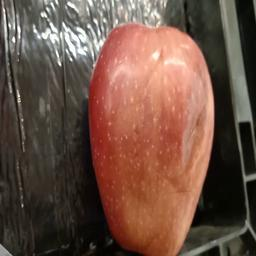Apple Semifresh: (80, 20, 217, 256)
